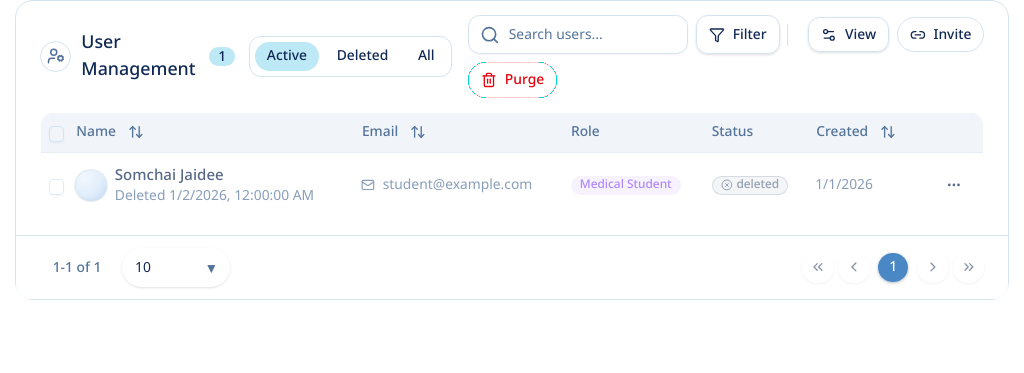
UsersTable immediate live updates › shows permanent delete for deleted medical students and removes the row immediately
Check: the text "student@example.com" is shown, box [361,176,555,195]
Click the button named "open menu" in the row of "Somchai" at x=954, y=185, box [938,170,970,201]
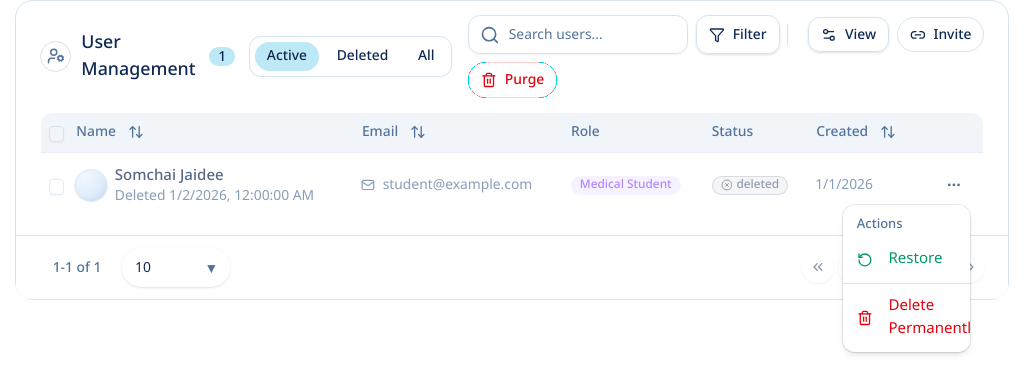
Click the menu item "Delete Permanently" at x=906, y=318, box [847,288,966,348]
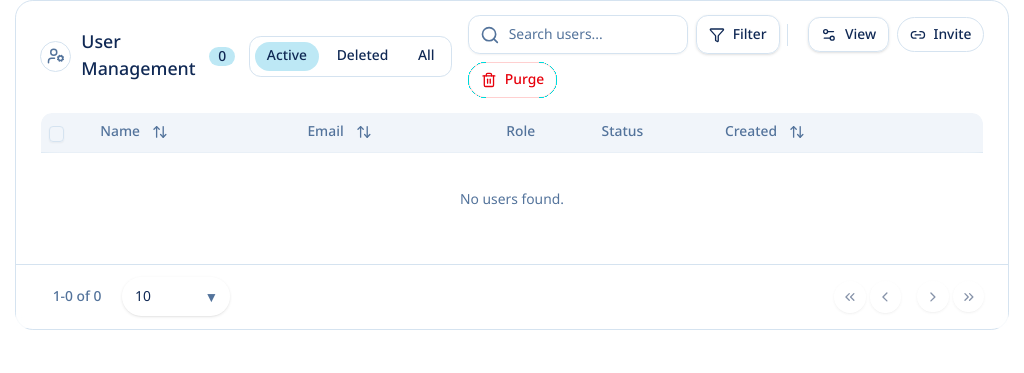
Check: the text "student@example.com" is gone
